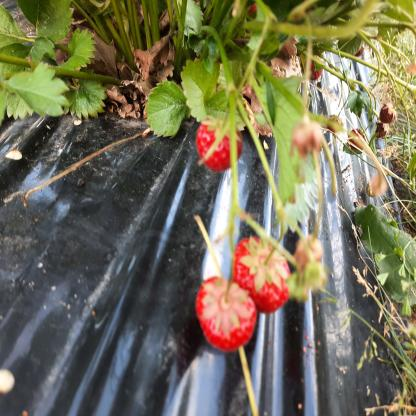ripe: (198, 280, 253, 354), (236, 243, 291, 299), (196, 118, 240, 165)
